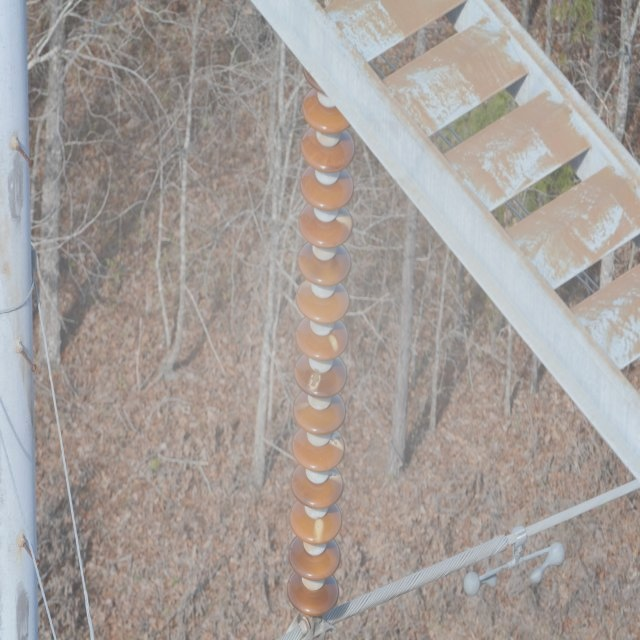insulator: (288, 63, 357, 612)
